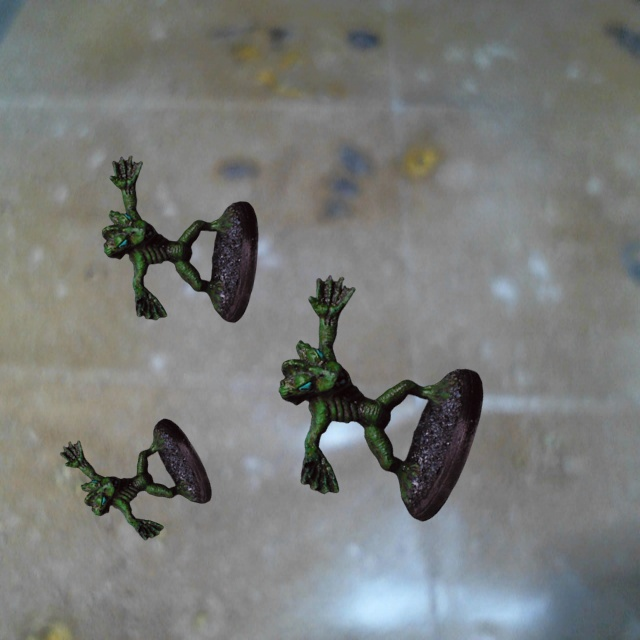pieza_juego: (279, 275, 482, 521), (102, 155, 258, 322), (60, 419, 211, 539)
